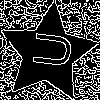U: (23, 28, 73, 71)
